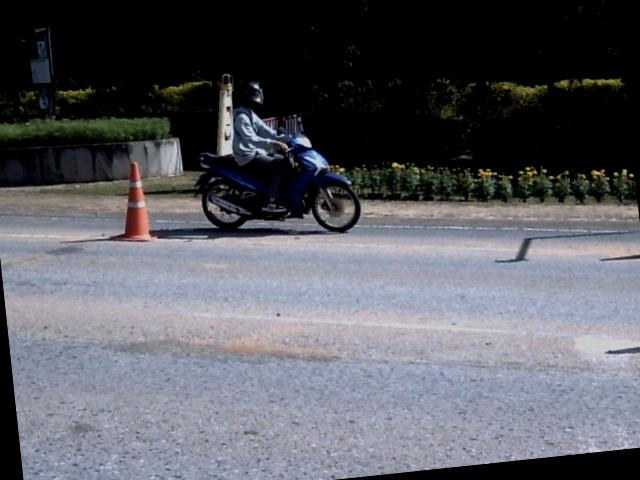helmet: (235, 81, 264, 105)
motor: (196, 134, 359, 231)
person: (232, 81, 292, 214)
